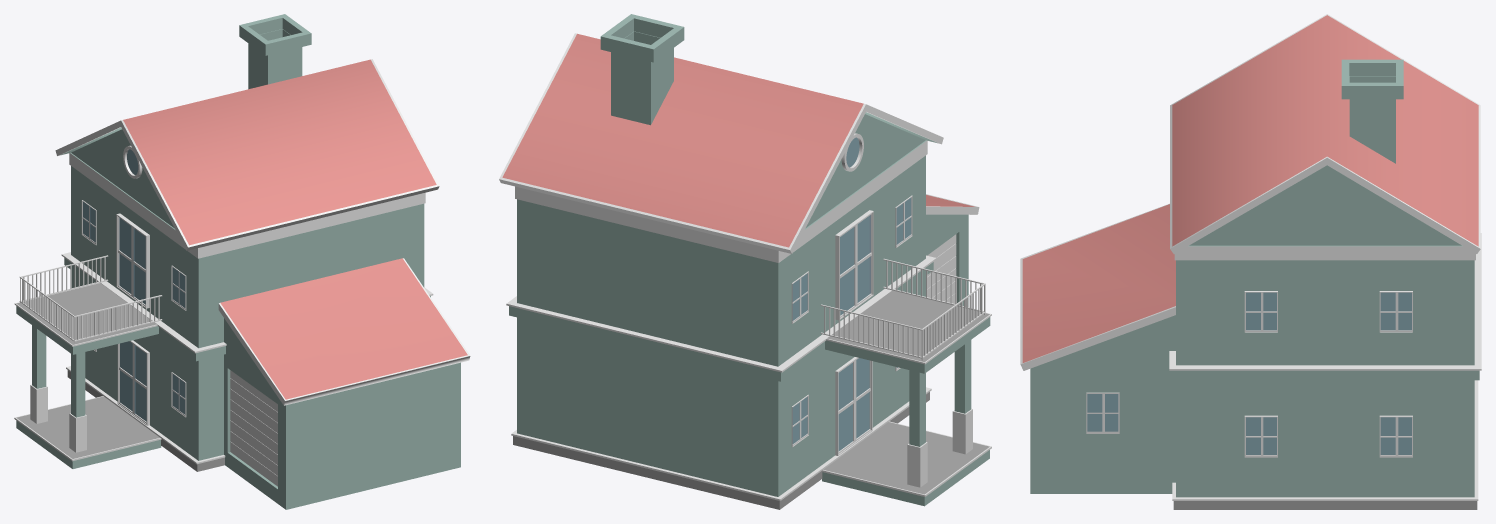
The model's file is Res2.obj.
3 views of the same model, side by side, from view 1: azimuth 30°, elevation 25°; view 2: azimuth 150°, elevation 25°; view 3: azimuth 270°, elevation 25° (orthographic). The views are drawn at different scales.
Visible parts, largest first — view 1: Res2, Shutter_2, Chimney_2, door_up, door_main, windows_9; view 2: Res2, Chimney_2, door_up, door_main, windows_9, Shutter_2, Hole; view 3: Res2, windows_9, Chimney_2.
Boxes of the visible parts, <box> form: Res2: <box>14,59,470,509</box>; Shutter_2: <box>230,370,277,486</box>; Chimney_2: <box>239,14,311,89</box>; door_up: <box>116,213,149,308</box>; door_main: <box>117,340,149,425</box>; windows_9: <box>81,200,186,417</box>; Res2: <box>499,33,991,509</box>; Chimney_2: <box>600,14,684,125</box>; door_up: <box>835,210,873,320</box>; door_main: <box>835,357,872,455</box>; windows_9: <box>791,195,912,447</box>; Shutter_2: <box>927,234,956,303</box>; Hole: <box>841,133,863,171</box>; Res2: <box>1020,14,1481,509</box>; windows_9: <box>1086,291,1412,457</box>; Chimney_2: <box>1341,59,1403,163</box>.
Size of the model in its own units: 41.2 by 40.88 by 42.55.
